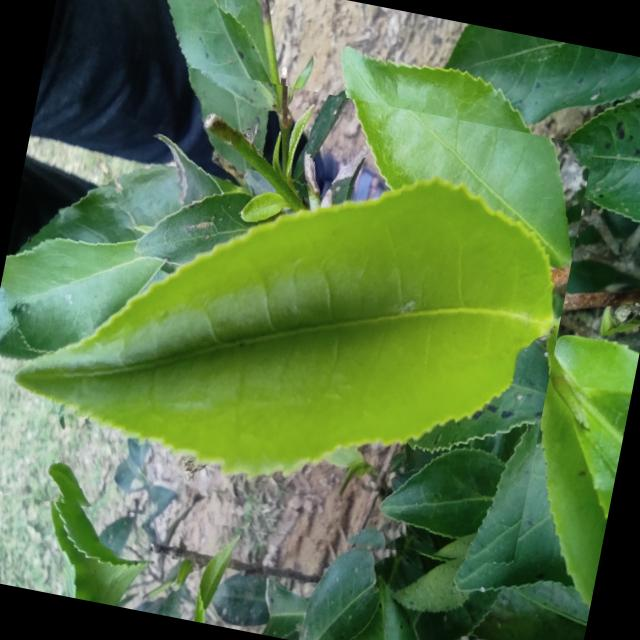Category C 4-7 days: (0, 42, 594, 593)
